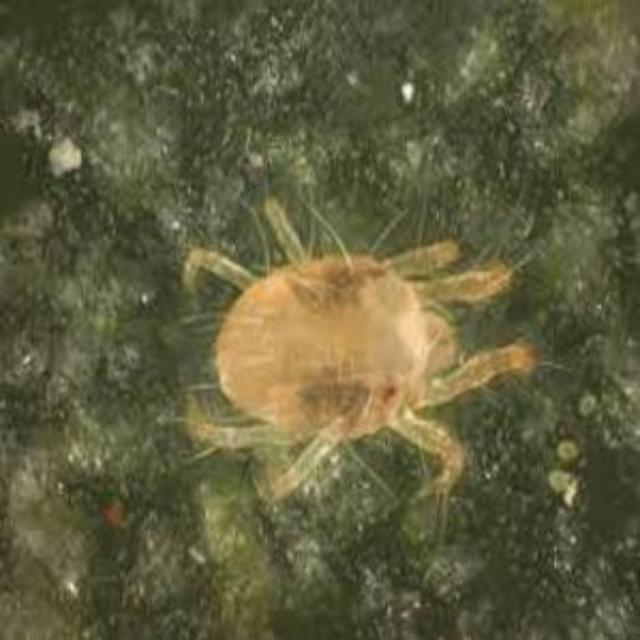spider mite: (146, 160, 560, 550)
